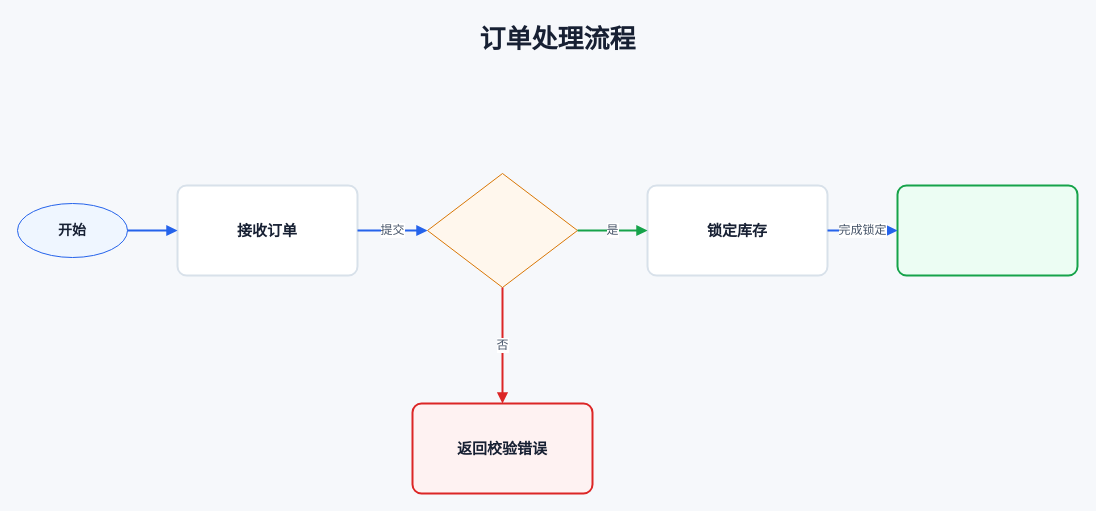
The diagram is 1096 pixels wide and 511 high, and some of its shapes have lost their labels. The centre of each missing label's shape, as x and y in pixels:
创建成功: the point at 987,230
校验通过？: the point at 502,230
